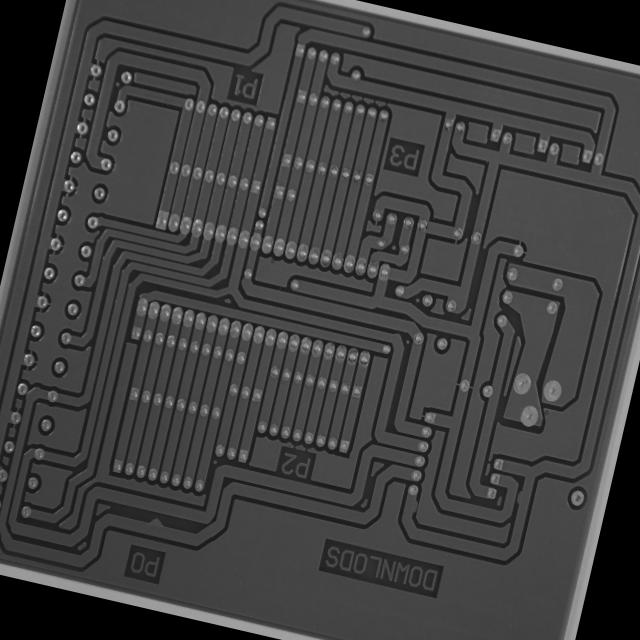spur: (142, 511, 168, 534), (404, 493, 422, 519), (509, 482, 526, 509)
